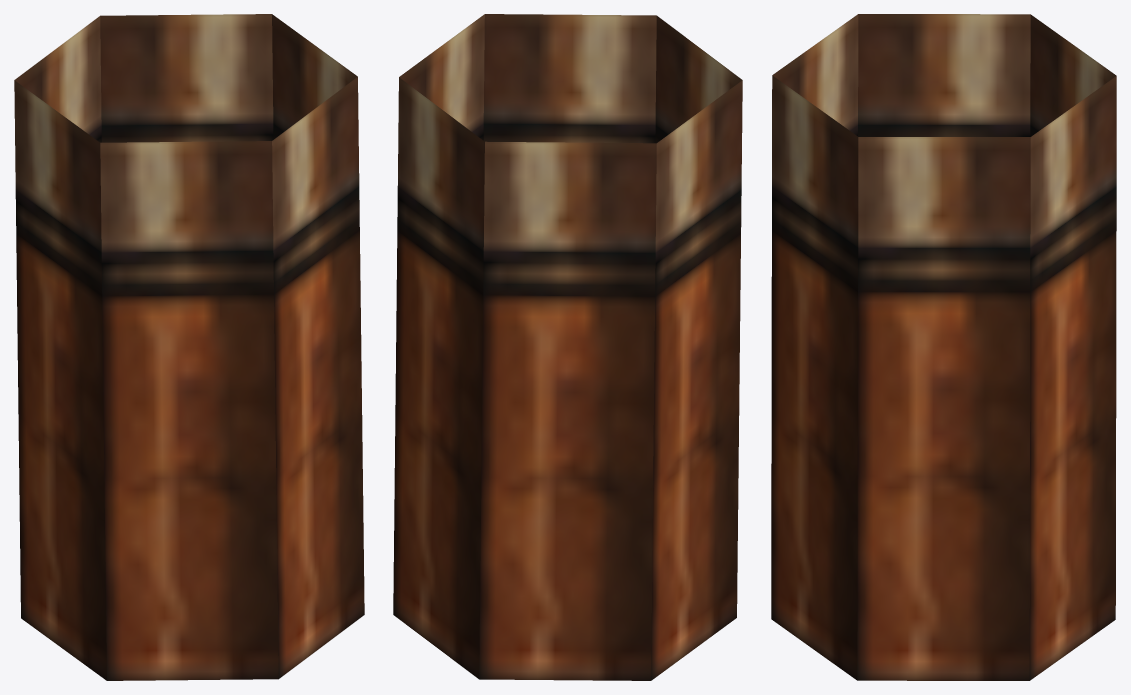
Rendered from pipe_4.fbx.
3 renders of one model, left to right at view 1: azimuth 30°, elevation 25°; view 2: azimuth 150°, elevation 25°; view 3: azimuth 270°, elevation 25°, orthographic.
Visible parts, largest first — view 1: pipe_4; view 2: pipe_4; view 3: pipe_4.
Boxes of the visible parts, x1,y1,x2,y2 form: pipe_4: (14,14,364,680); pipe_4: (393,14,742,680); pipe_4: (771,14,1116,680).
Size of the model in its own units: 0.3458 by 0.6796 by 0.391.
